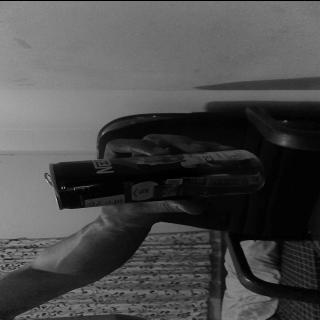plastic_bottles: (38, 148, 268, 210)
